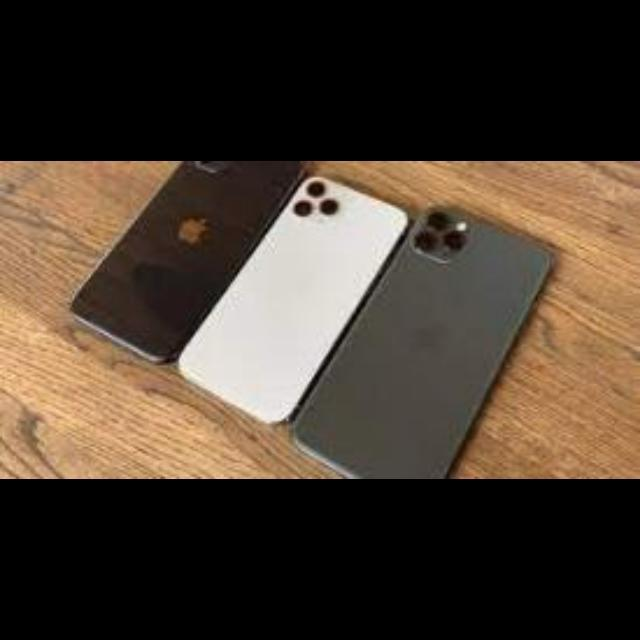Phone: (304, 200, 552, 480), (189, 171, 407, 417), (71, 162, 301, 360)
